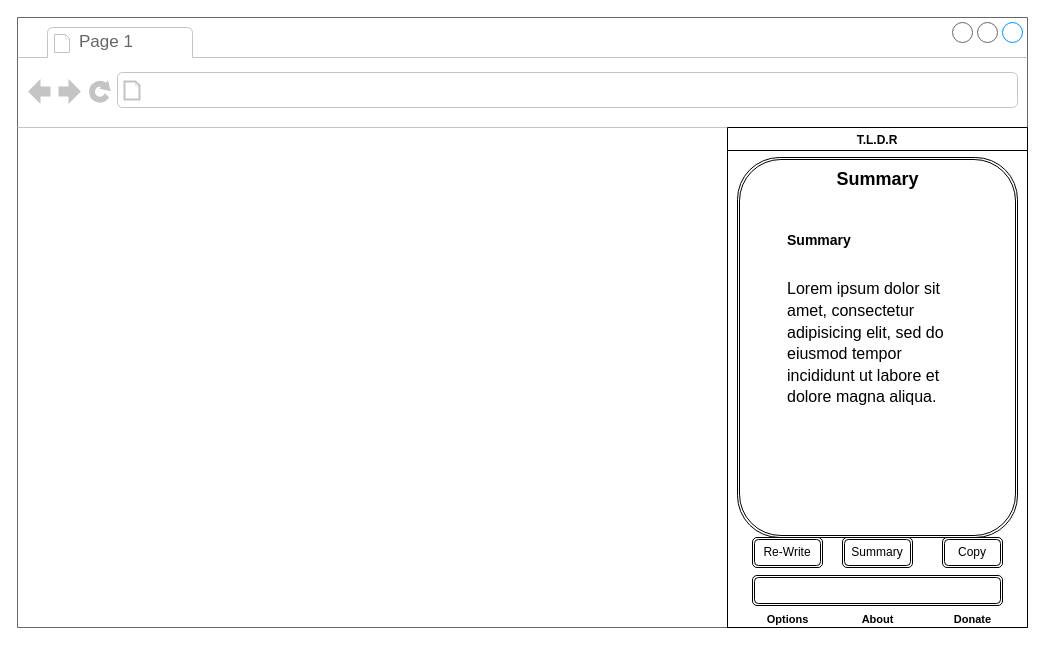
This 1045x647 diagram has some shape labels left out. Each missing label, with the centre of its shape:
https://www.draw.io: the point at 272,90
Text Area: the point at 877,590
